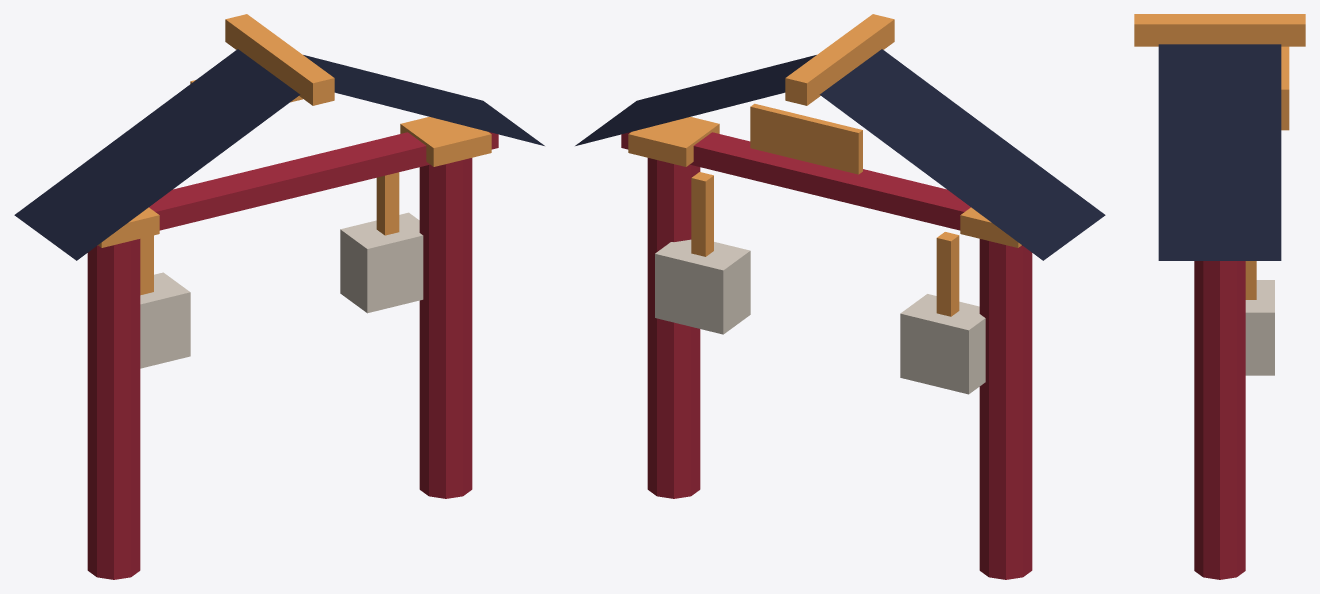
File: moonfall_lantern_arch.obj
3 views of the same model, side by side, from view 1: azimuth 30°, elevation 25°; view 2: azimuth 150°, elevation 25°; view 3: azimuth 270°, elevation 25° (orthographic).
Visible parts, largest first — view 1: moonfall_lantern_arch; view 2: moonfall_lantern_arch; view 3: moonfall_lantern_arch.
Boxes of the visible parts, x1,y1,x2,y2 form: moonfall_lantern_arch: (14,14,544,579); moonfall_lantern_arch: (575,14,1105,579); moonfall_lantern_arch: (1134,14,1305,579).
Bounding box in the file's own units: 6.5 × 6.35 × 2.1.
